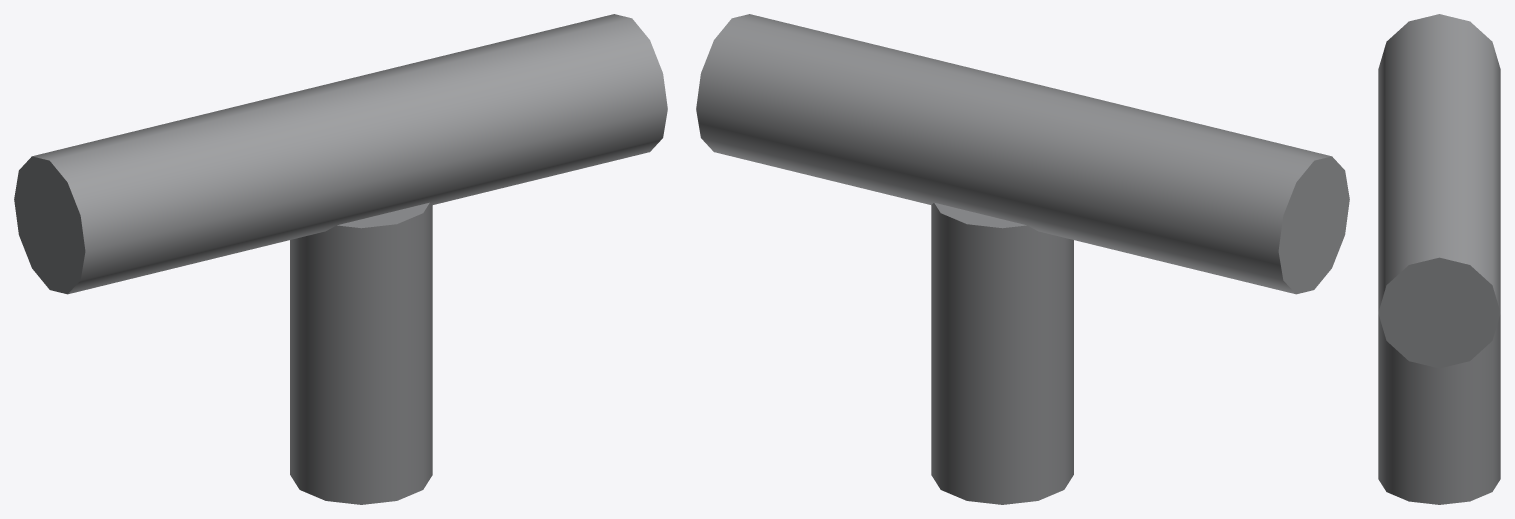
3 views of the same model, side by side, from view 1: azimuth 30°, elevation 25°; view 2: azimuth 150°, elevation 25°; view 3: azimuth 270°, elevation 25° (orthographic). The views are drawn at different scales.
Bounding box in the file's own units: 1 × 0.6414 × 0.2125.
